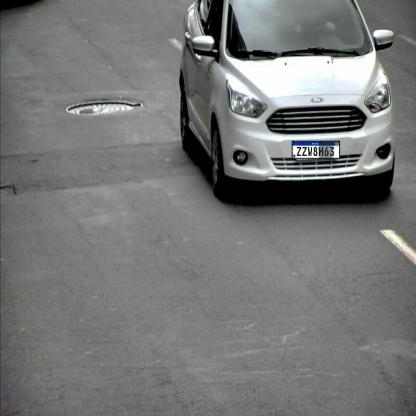PlacaM: (292, 141, 340, 159)
